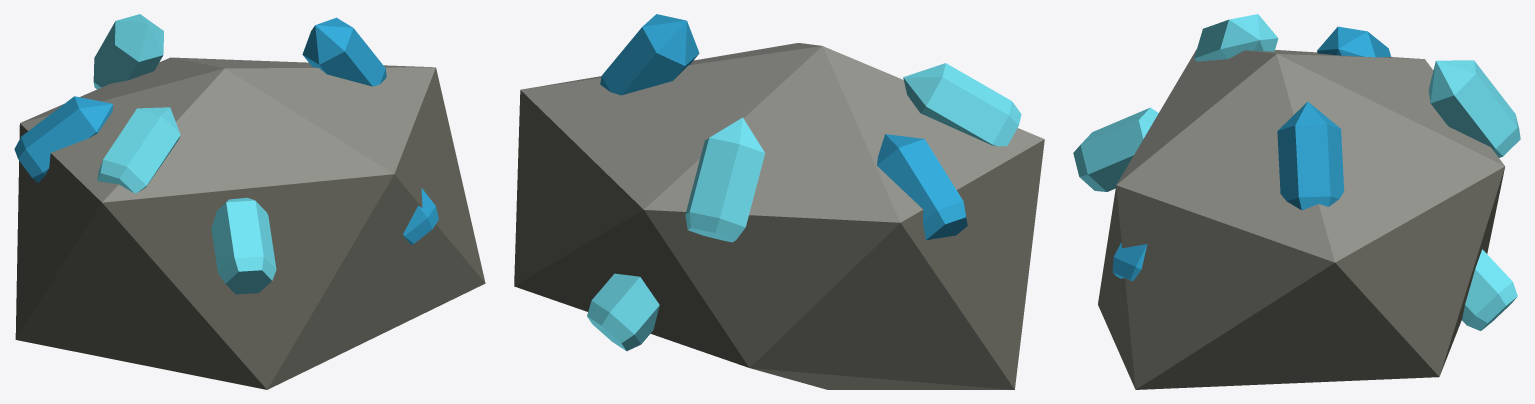
Rendered from DiamondOre.fbx.
3 views of the same model, side by side, from view 1: azimuth 30°, elevation 25°; view 2: azimuth 150°, elevation 25°; view 3: azimuth 270°, elevation 25° (orthographic). The views are drawn at different scales.
Visible parts, largest first — view 1: DiamondOre; view 2: DiamondOre; view 3: DiamondOre.
Part boxes in pixels (bbox=[...]): DiamondOre: bbox=[14, 14, 485, 389]; DiamondOre: bbox=[514, 14, 1044, 389]; DiamondOre: bbox=[1073, 14, 1520, 389].
Bounding box in the file's own units: 3.67 × 2.48 × 3.08.
1 material, 1 textured.
